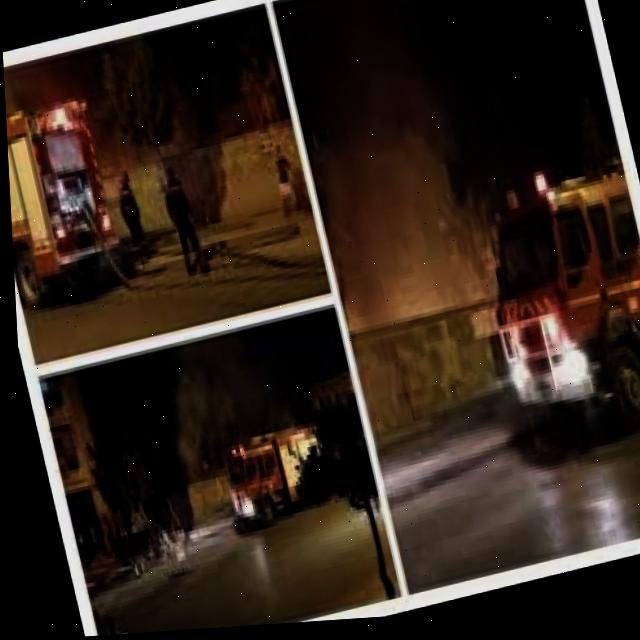emergency: (447, 149, 640, 473), (4, 95, 132, 304), (201, 407, 330, 538)
